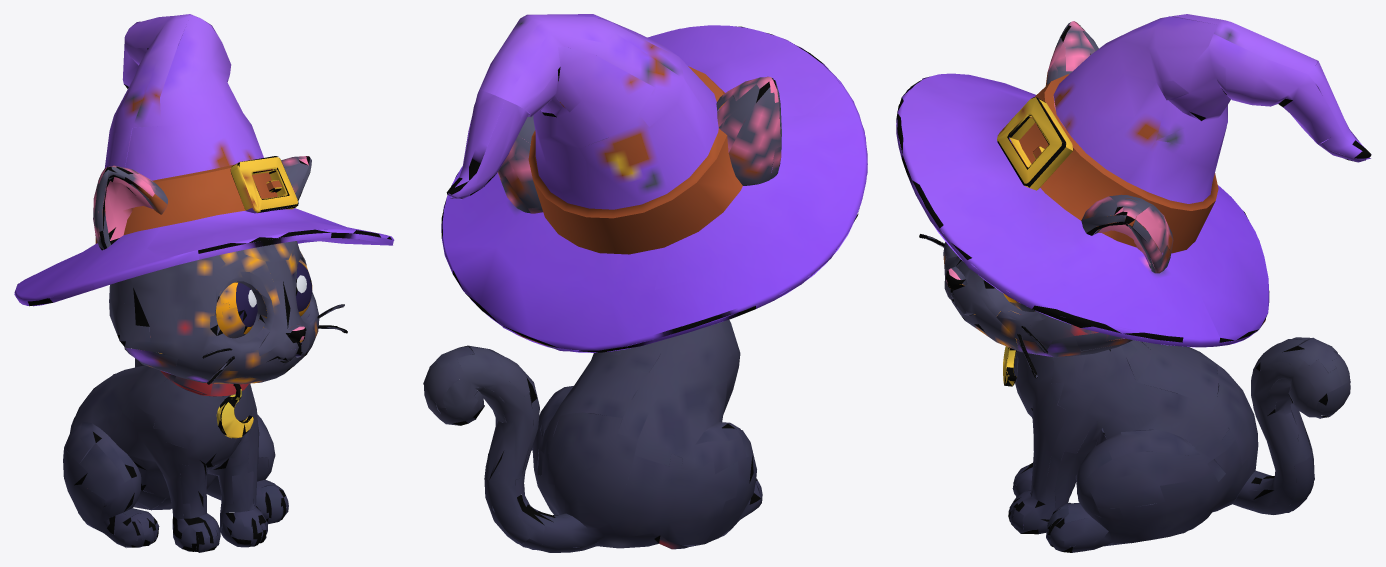
The model's file is kit-witch-cat.glb.
3 renders of one model, left to right at view 1: azimuth 30°, elevation 25°; view 2: azimuth 150°, elevation 25°; view 3: azimuth 270°, elevation 25°, orthographic. The views are drawn at different scales.
Parts seen in each view (by area): view 1: WBA_Character_WitchCat_01_WBA_MAT_Halloween_Atlas_0.001; view 2: WBA_Character_WitchCat_01_WBA_MAT_Halloween_Atlas_0.001; view 3: WBA_Character_WitchCat_01_WBA_MAT_Halloween_Atlas_0.001.
Boxes of the visible parts, x1,y1,x2,y2 form: WBA_Character_WitchCat_01_WBA_MAT_Halloween_Atlas_0.001: (14, 14, 394, 552); WBA_Character_WitchCat_01_WBA_MAT_Halloween_Atlas_0.001: (423, 14, 867, 552); WBA_Character_WitchCat_01_WBA_MAT_Halloween_Atlas_0.001: (896, 14, 1371, 552).
Size of the model in its own units: 0.7983 by 1.04 by 0.8653.
1 material, 1 textured.
